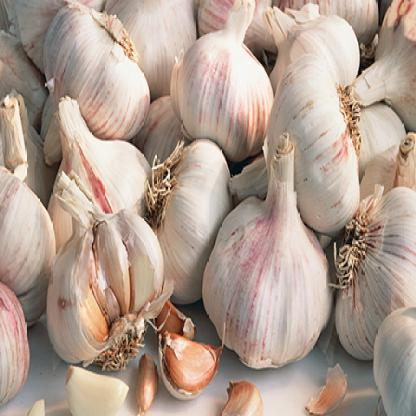garlic: (211, 191, 328, 363), (348, 184, 416, 408), (54, 209, 156, 341), (50, 8, 149, 131), (278, 72, 356, 226), (152, 140, 235, 264), (181, 38, 264, 142), (53, 127, 140, 225), (0, 168, 56, 304), (58, 358, 132, 414), (0, 281, 30, 413), (160, 333, 214, 393), (224, 380, 262, 414), (136, 356, 156, 414)
